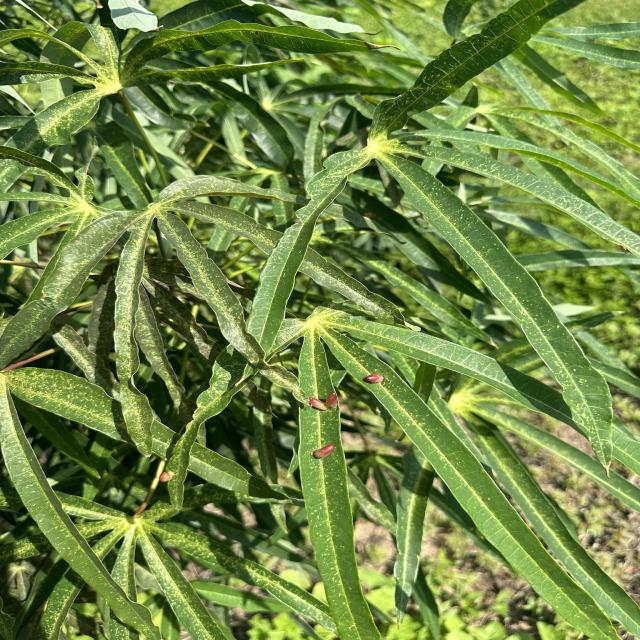Mosca: (279, 422, 339, 475), (301, 383, 356, 430), (351, 366, 406, 407), (144, 455, 195, 483)
